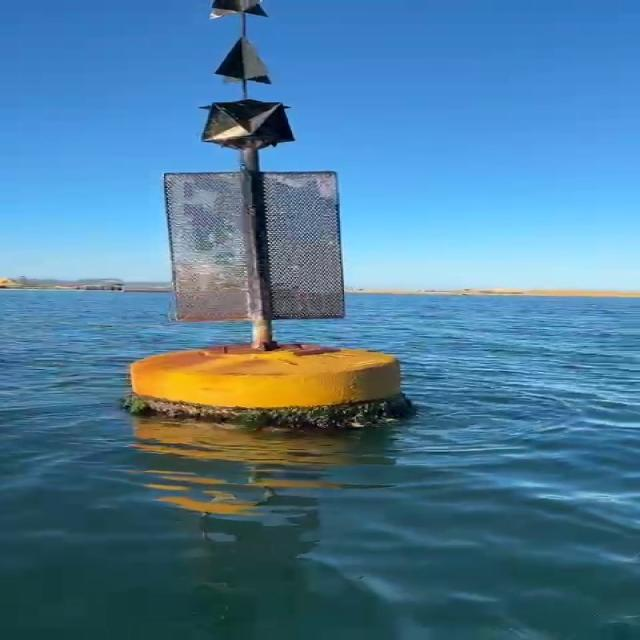marque: (128, 1, 428, 423)
